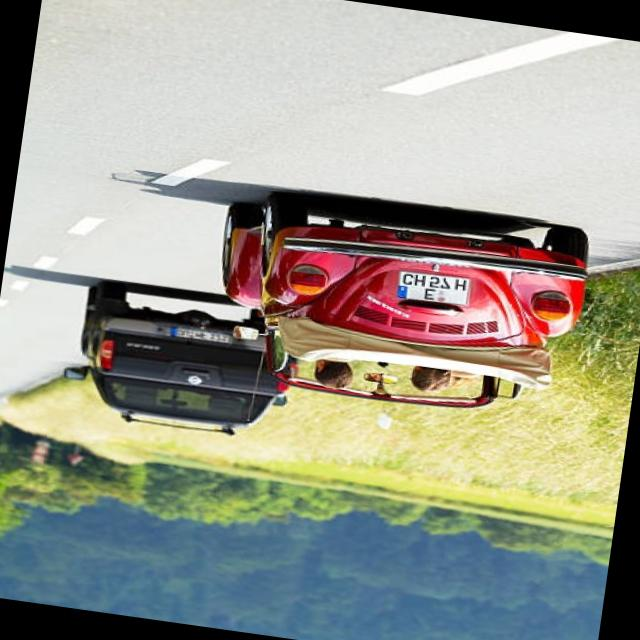car: (203, 186, 596, 414), (74, 290, 306, 437)
